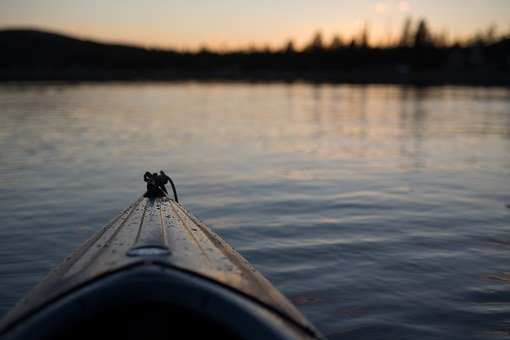lake: (6, 83, 510, 334)
